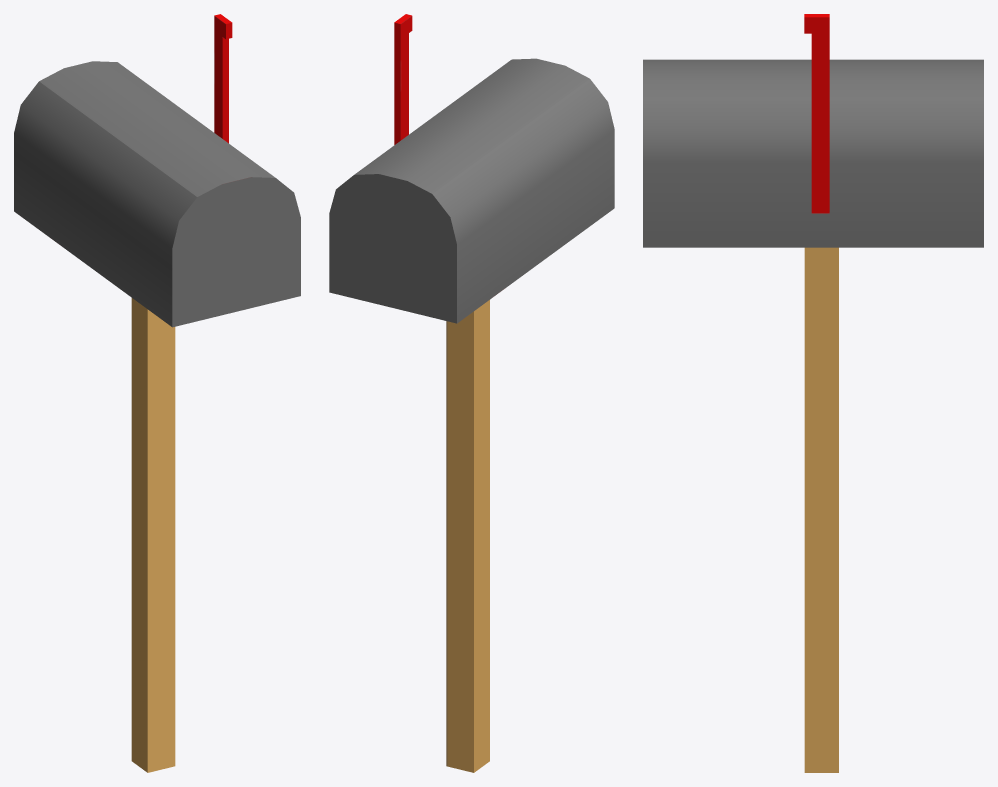
Rendered from Mailbox.glb.
3 renders of one model, left to right at view 1: azimuth 30°, elevation 25°; view 2: azimuth 150°, elevation 25°; view 3: azimuth 270°, elevation 25°, orthographic. The views are drawn at different scales.
Visible parts, largest first — view 1: Mailbox; view 2: Mailbox; view 3: Mailbox.
Part boxes in pixels (x1,y1,x2,y2): Mailbox: (14,14,300,772); Mailbox: (329,14,614,772); Mailbox: (643,14,983,772).
Size of what is drawn, in the model's own units: 0.2867 by 1.48 by 0.5829.
Materials: 1 (1 with a texture image).
